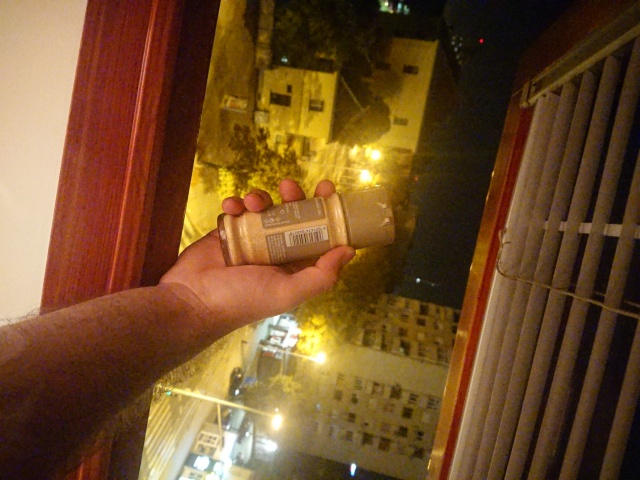Kotanyi Garlic Granules 70g: (214, 182, 398, 271)
